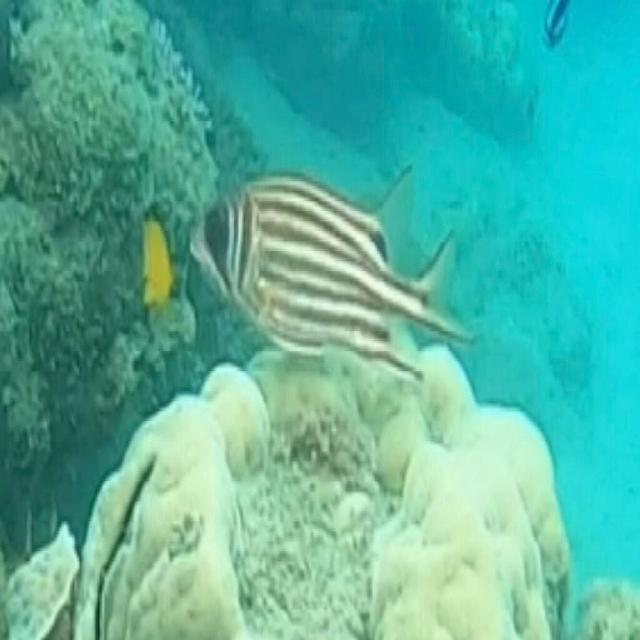Asker Baligi: (182, 150, 483, 384)
